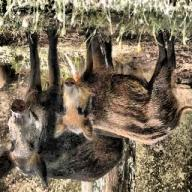boar: (0, 30, 124, 188), (53, 27, 192, 144)
